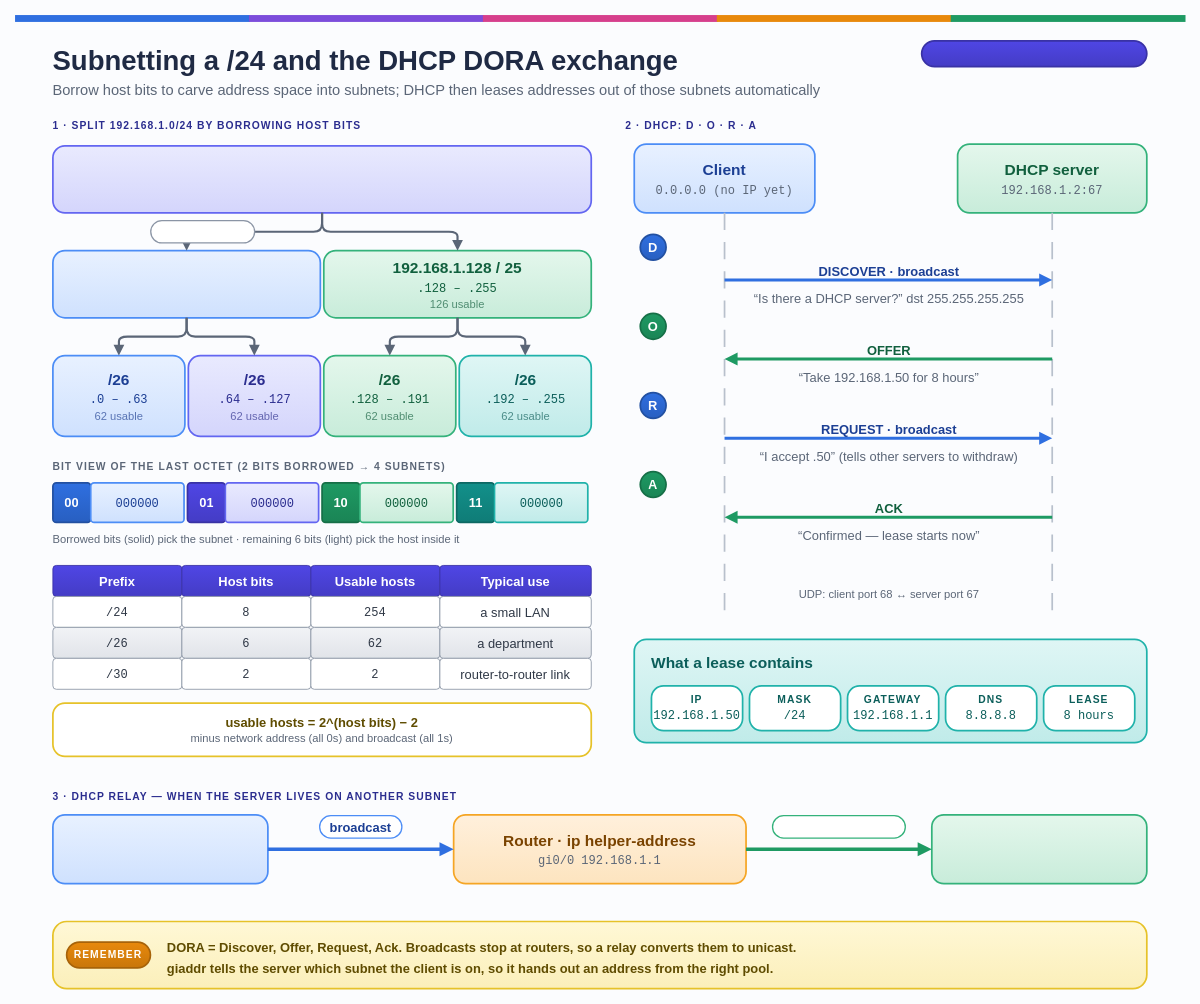
Image size: 1200x1004. Some labels were removed from this diagram. The shapes that lost their labels are listed below. From the top down, each one's centre as x and y in pixels, then its label:
At (x=1033, y=53): "STAGE 06 · SUBNETTING & DHCP".
At (x=322, y=178): "192.168.1.0 / 24 256 addresses · 254 usable · mask 255.255.255.0".
At (x=202, y=231): "borrow 1 bit".
At (x=186, y=283): "192.168.1.0 / 25 .0 – .127 126 usable".
At (x=839, y=826): "unicast + giaddr".
At (x=160, y=849): "Client LAN 192.168.1.0/24".
At (x=1039, y=849): "DHCP server LAN 10.0.0.0/24".
